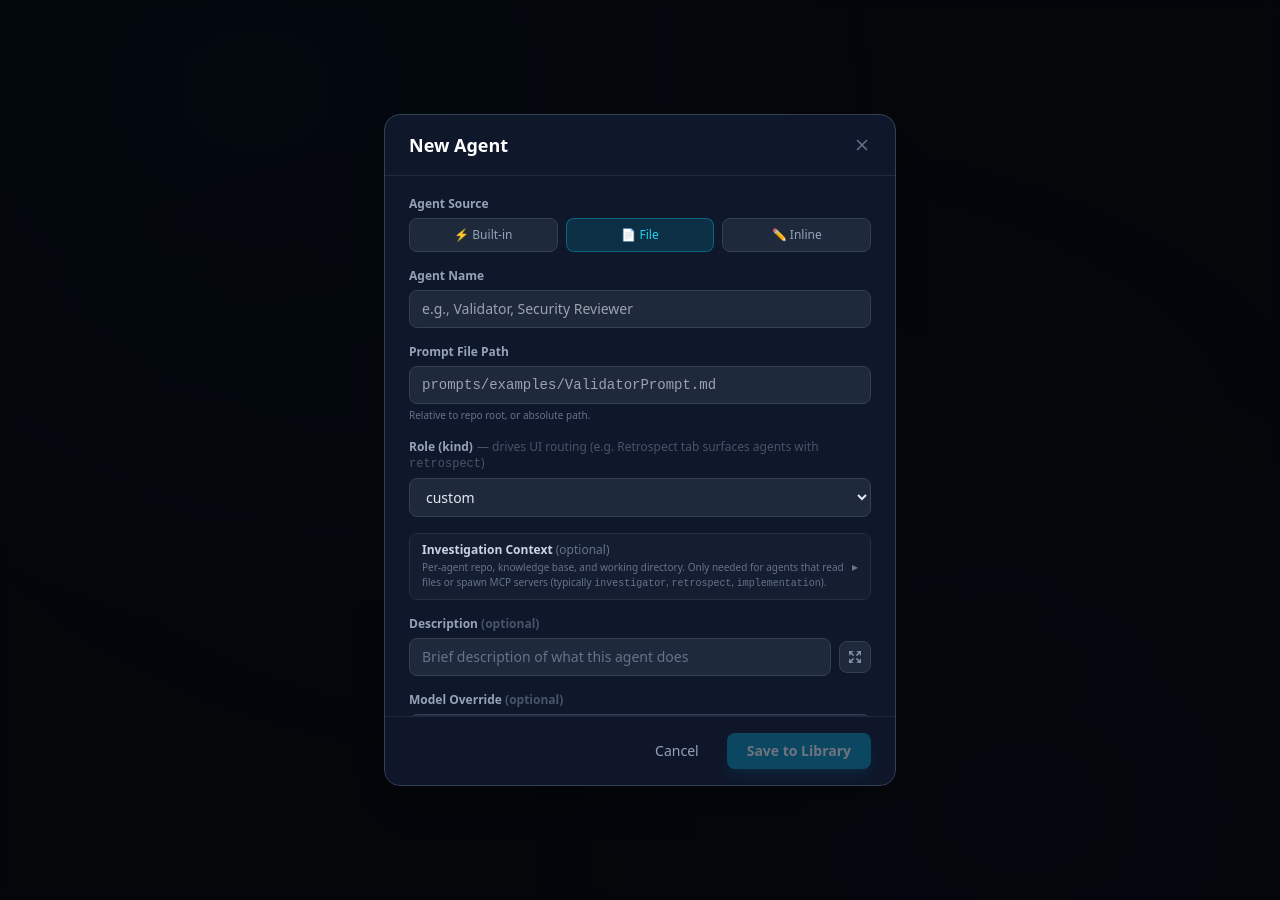
Test: AgentModal — source switching › shows the library-mode warning when builtin is selected in library mode for a new agent
Click the button "⚡ Built-in" at (483, 235), box 409,218 -> 558,252
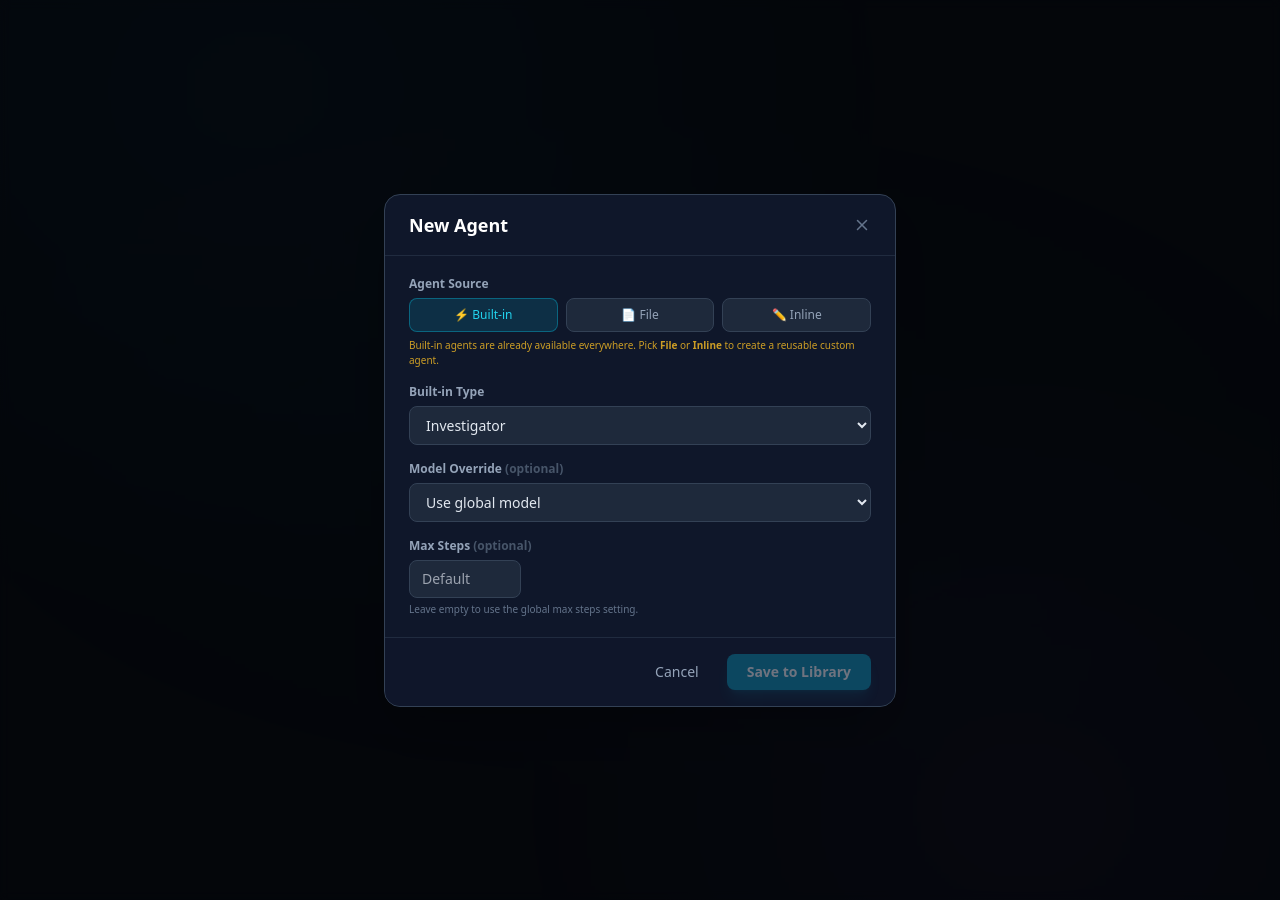
Expected: the text "already available everywhere" is shown, 409,338 -> 660,352
